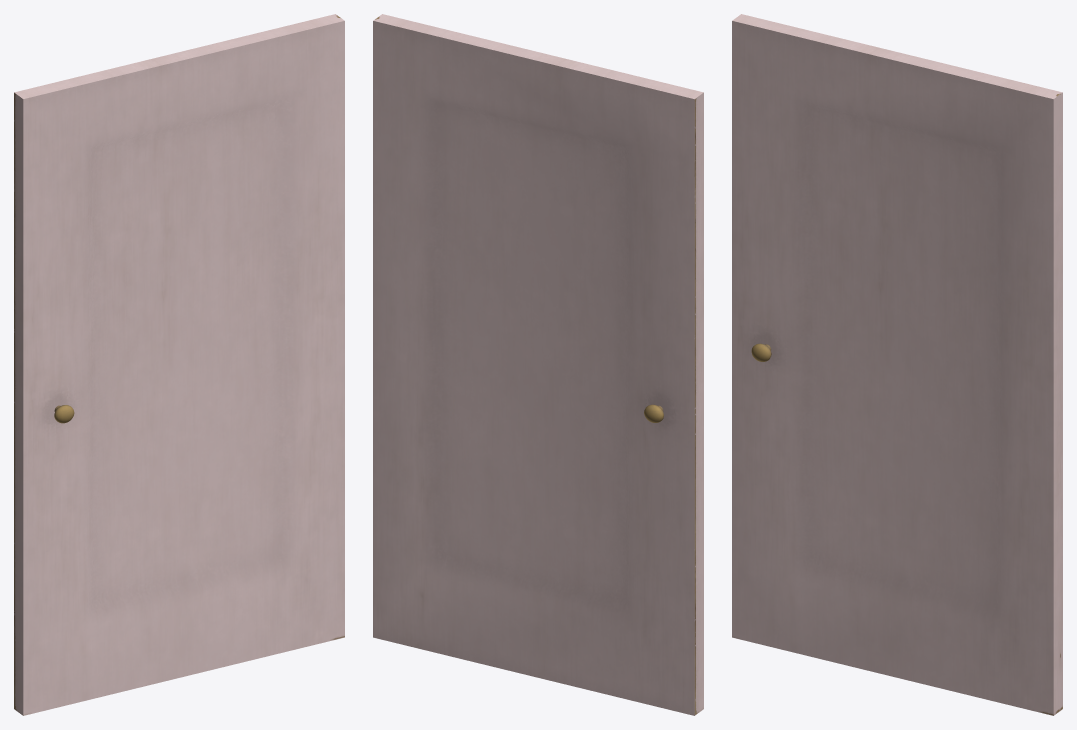
The model's file is door.glb.
3 views of the same model, side by side, from view 1: azimuth 30°, elevation 25°; view 2: azimuth 150°, elevation 25°; view 3: azimuth 330°, elevation 25° (orthographic).
Parts seen in each view (by area): view 1: pCube1; view 2: pCube1; view 3: pCube1.
Part boxes in pixels (x1,y1,x2,y2): pCube1: (14, 14, 344, 715); pCube1: (373, 14, 703, 715); pCube1: (732, 14, 1062, 715).
Size of the model in its own units: 2 by 3.67 by 0.2938.
1 material, 1 textured.
